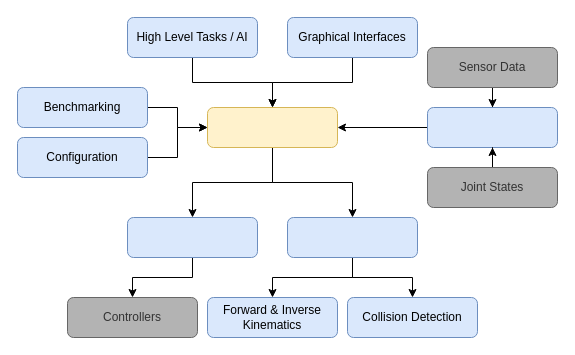
Image size: 575x355. Some labels were removed from this diagram. Here are the shapes that lost their labels. From the top down, the centre of each, then its label:
the point at 272,127: Motion Planning Framework
the point at 492,127: Planning Scene
the point at 192,237: Trajectory Execution
the point at 352,237: Planning Algorithms
